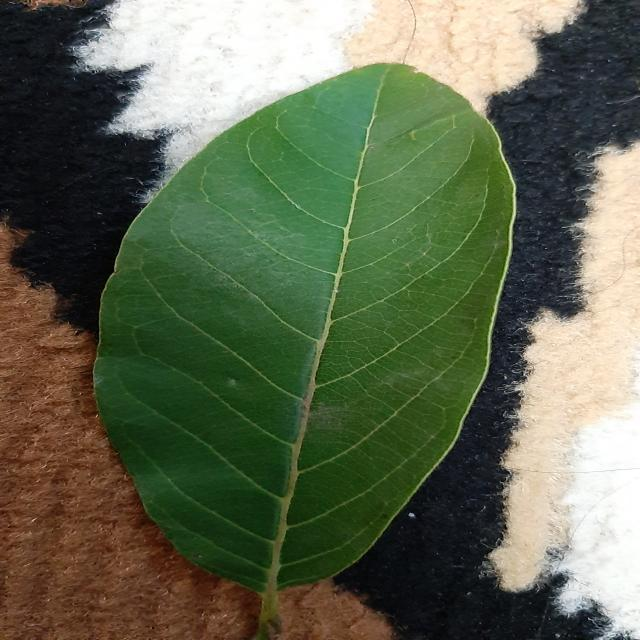leaf: (91, 60, 517, 636)
